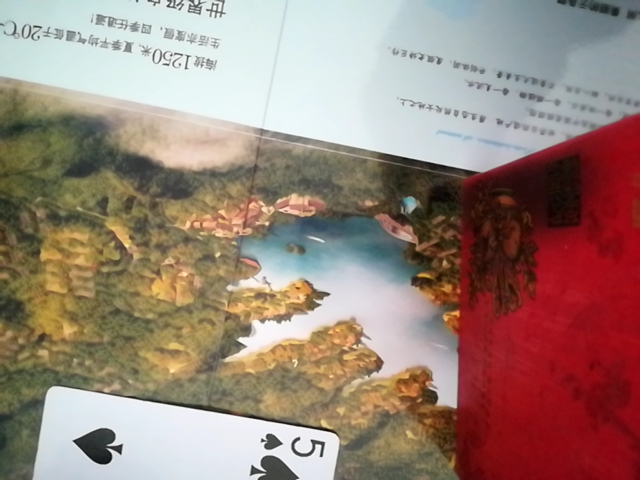ht 5: (18, 386, 336, 478)
